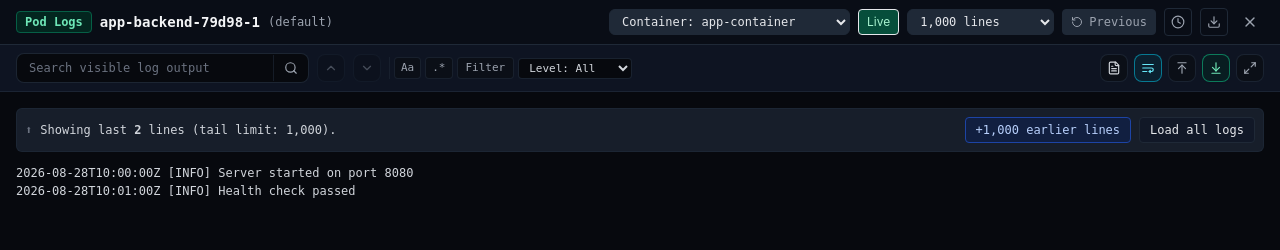
Test case: Comprehensive Modals and Interactive Actions Suite › toggles previous container logs with Previous button and displays banner
Note: Click to toggle previous logs
Click the button with aria-label "Show Previous Container Logs".
click(1109, 22)  # box top-left (1062, 9), bottom-right (1156, 35)
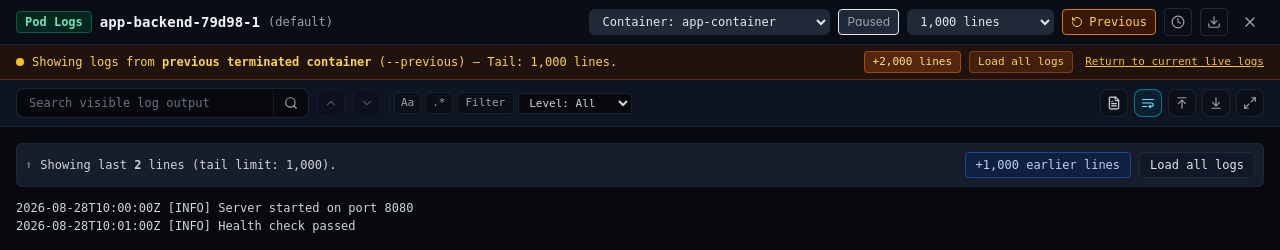
Check: the text "previous terminated container" is shown, box top-left (162, 55), bottom-right (372, 69)
Note: Click return to current live logs
Click the button "Return to current live logs".
click(1173, 62)  # box top-left (1081, 54), bottom-right (1264, 70)
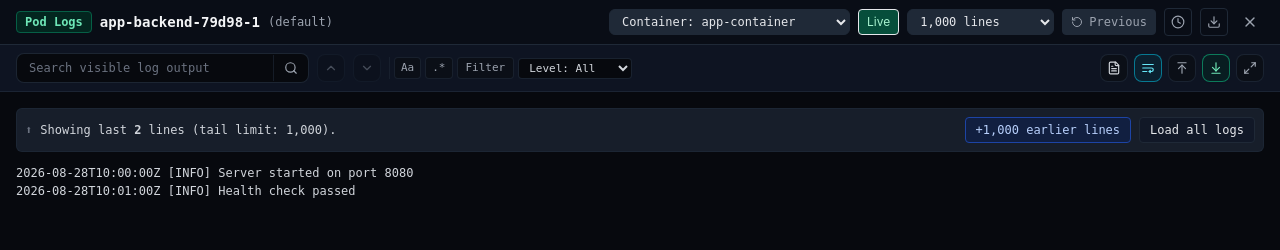
Check: the text "previous terminated container" is gone
